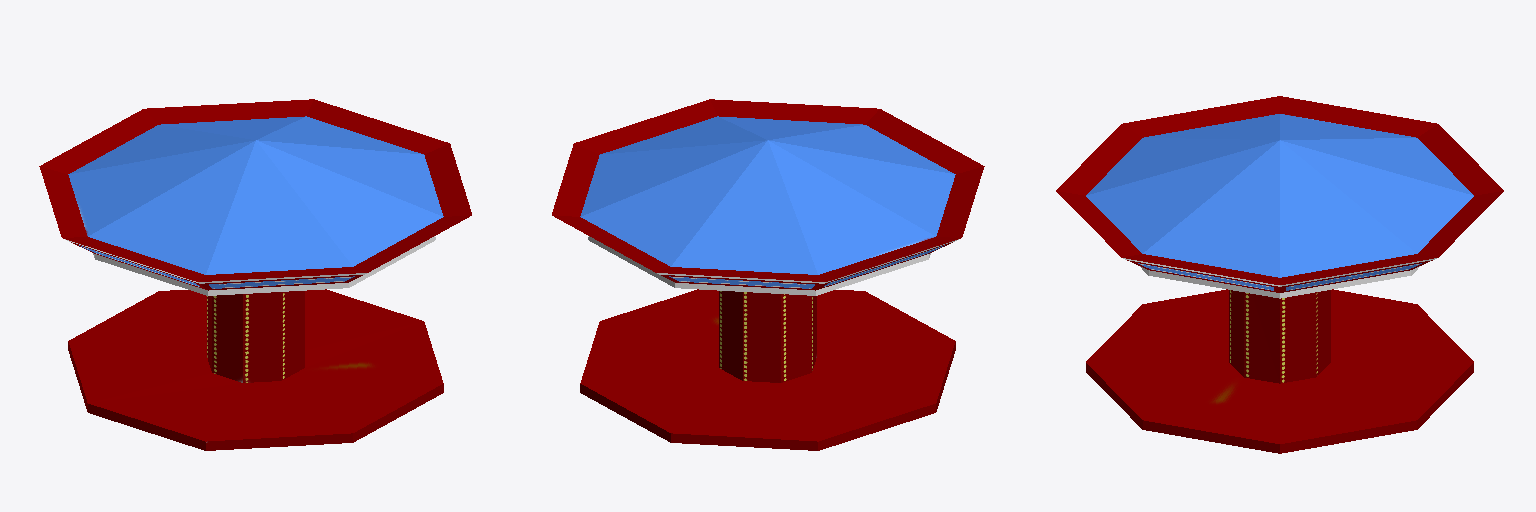
The picture shows the model from 3 angles: view 1: azimuth 30°, elevation 25°; view 2: azimuth 150°, elevation 25°; view 3: azimuth 270°, elevation 25°; orthographic projection.
Visible parts, largest first — view 1: Cylinder.001; view 2: Cylinder.001; view 3: Cylinder.001.
Boxes of the visible parts, <box> form: Cylinder.001: <box>39,99,471,450</box>; Cylinder.001: <box>552,99,984,450</box>; Cylinder.001: <box>1056,96,1503,453</box>.
Bounding box in the file's own units: 12.43 × 7.08 × 12.43.
1 materials, 1 textured.